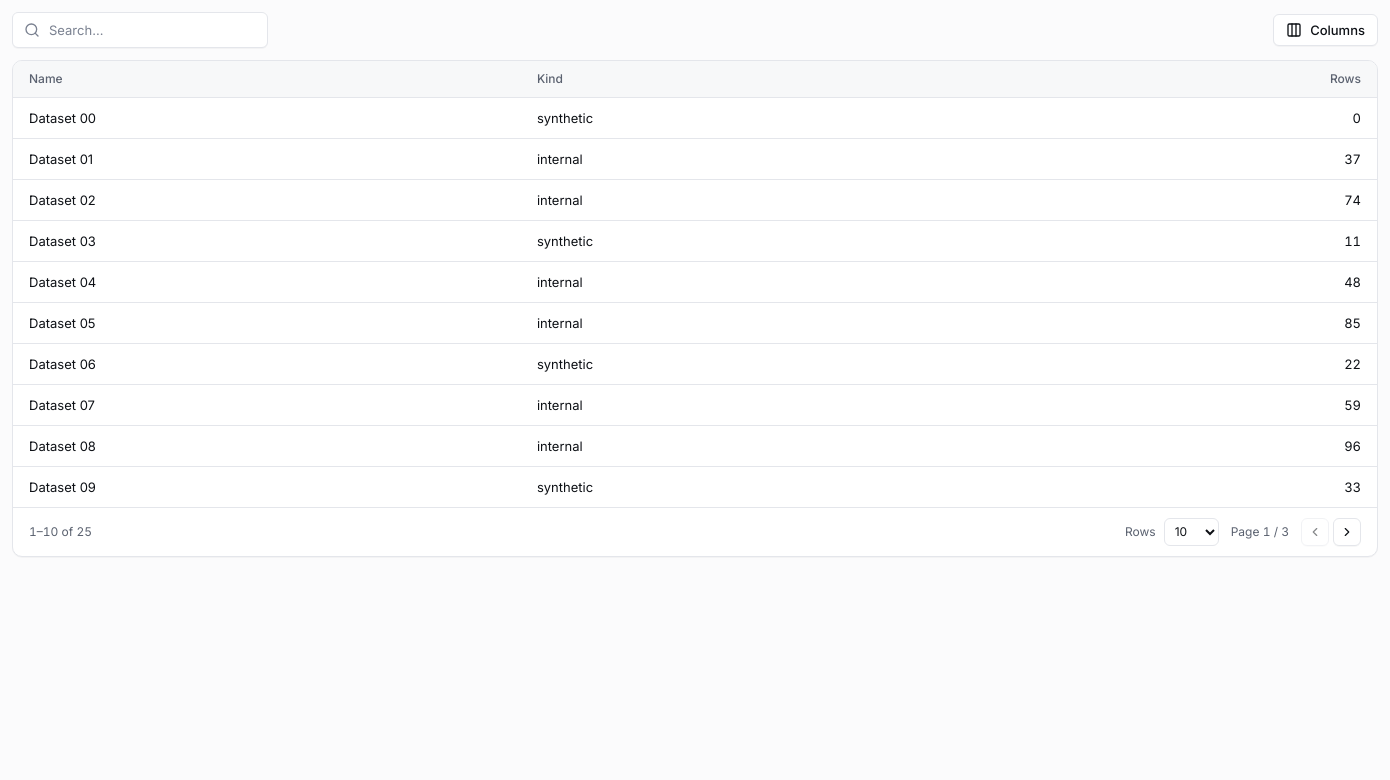
DataTable › filters with the global search and offers a reset
Later steps or results of the test are not shown.
Type "Dataset 07" into the field named "Search table" at (140, 30), box [12,12,268,48]
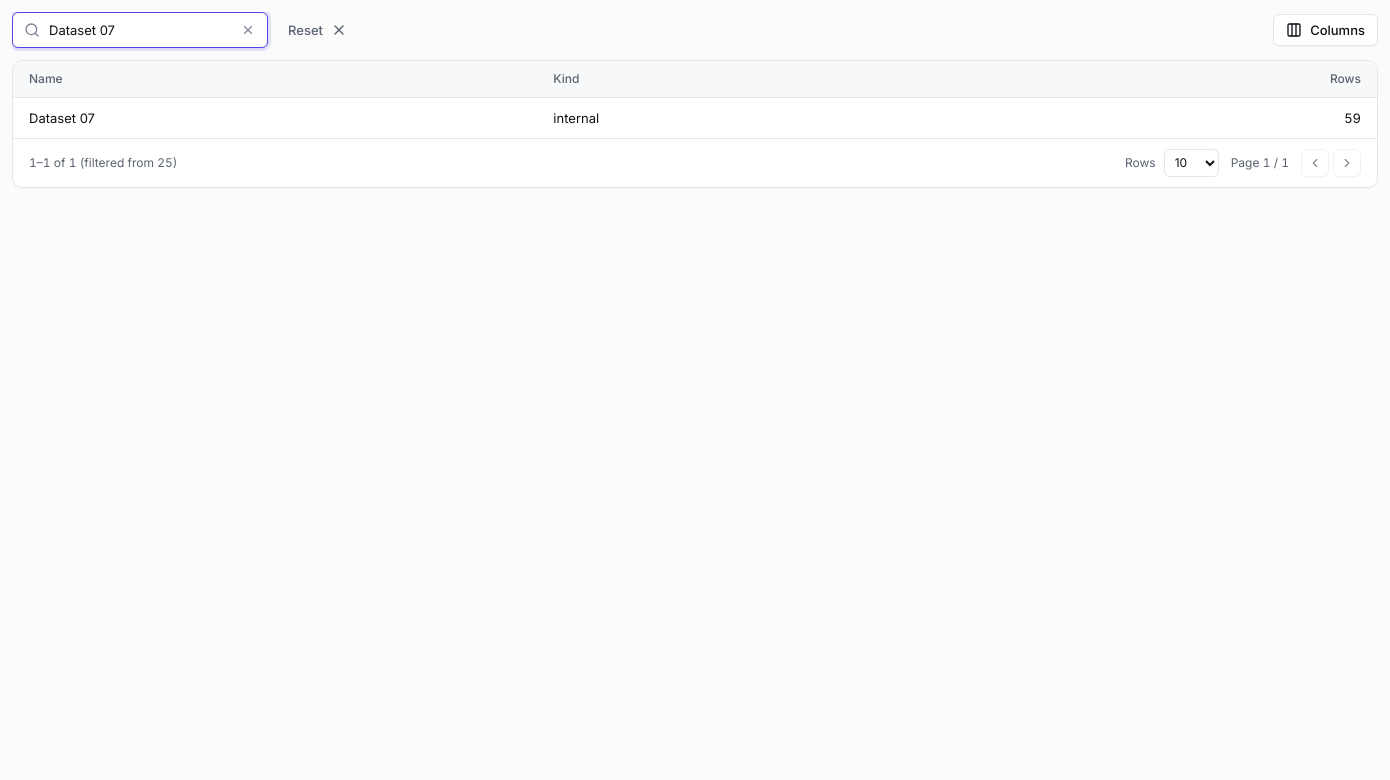
Check: the text "1–1 of 1 (filtered from 25)" is shown, box [29,154,177,170]
